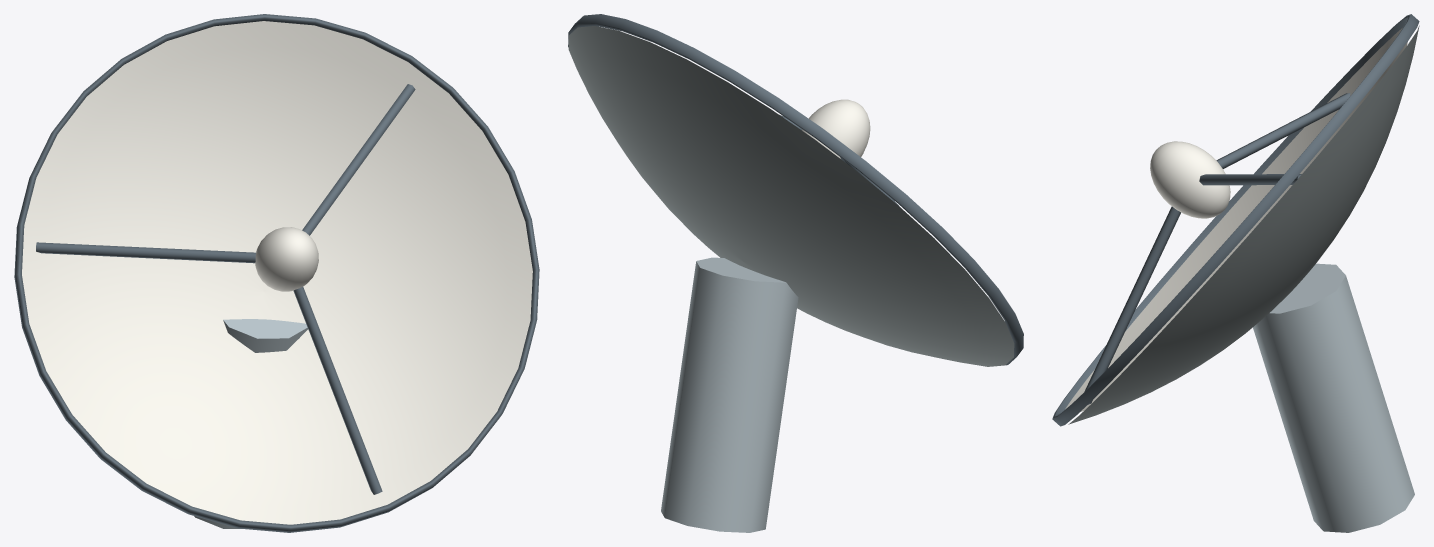
File: eagle_antennas.rendezvous_radar.glb
3 renders of one model, left to right at view 1: azimuth 30°, elevation 25°; view 2: azimuth 150°, elevation 25°; view 3: azimuth 270°, elevation 25°, orthographic. The views are drawn at different scales.
Parts seen in each view (by area): view 1: eagle_antennas.rendezvous_radar.reflector.mesh, eagle_antennas.rendezvous_radar.mesh; view 2: eagle_antennas.rendezvous_radar.reflector.mesh, eagle_antennas.rendezvous_radar.mesh; view 3: eagle_antennas.rendezvous_radar.reflector.mesh, eagle_antennas.rendezvous_radar.mesh.
Boxes of the visible parts, left/top/right/bottom form: eagle_antennas.rendezvous_radar.reflector.mesh: left=14, top=14, right=539, bottom=532; eagle_antennas.rendezvous_radar.mesh: left=194, top=319, right=307, bottom=528; eagle_antennas.rendezvous_radar.reflector.mesh: left=568, top=14, right=1023, bottom=366; eagle_antennas.rendezvous_radar.mesh: left=661, top=257, right=798, bottom=532; eagle_antennas.rendezvous_radar.reflector.mesh: left=1052, top=14, right=1419, bottom=426; eagle_antennas.rendezvous_radar.mesh: left=1253, top=263, right=1414, bottom=532.
Size of the model in its own units: 0.6097 by 0.6231 by 0.4255.
